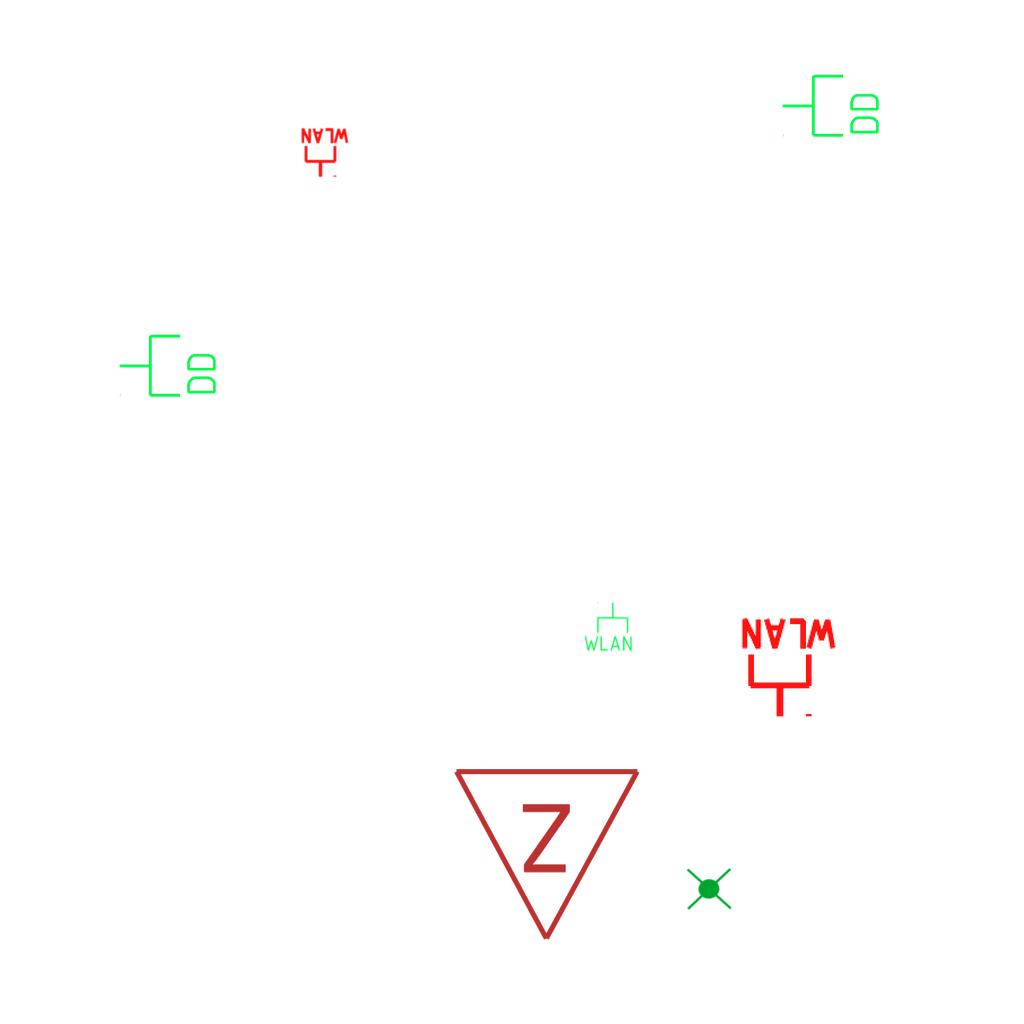Datenanschluss_zweifach: (780, 72, 883, 141), (117, 332, 220, 401)
Notlichtbaustein_in_Allgemeinbeleuchtug_engebaut_Einbau_(1UG_und_2UG_Aufbauvaria: (684, 864, 734, 915)
WLAN: (737, 616, 841, 721), (299, 127, 351, 179), (582, 601, 634, 653)
Zimmersignalleuchte: (451, 754, 647, 954)
